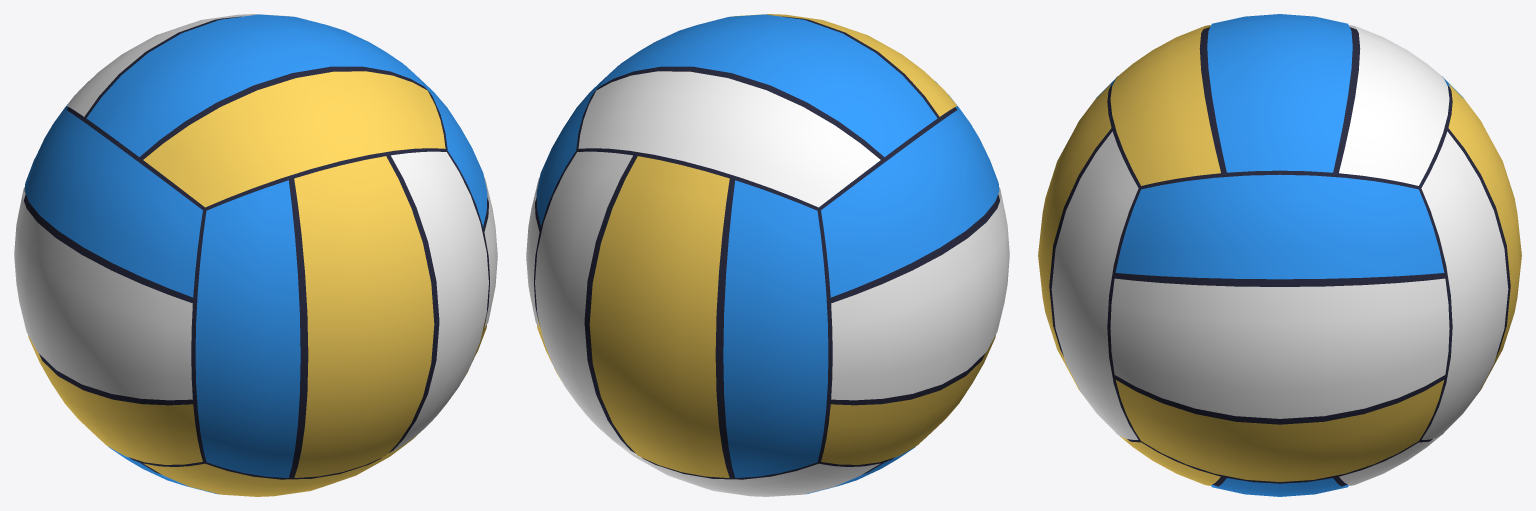
Rendered from match-volleyball.glb.
The picture shows the model from 3 angles, left to right: view 1: azimuth 30°, elevation 25°; view 2: azimuth 150°, elevation 25°; view 3: azimuth 270°, elevation 25°; orthographic projection.
Visible parts, largest first — view 1: Curved panel; view 2: Curved panel; view 3: Curved panel.
Part boxes in pixels (box(x1,y1,x2,y2)): Curved panel: box(14, 14, 497, 496); Curved panel: box(526, 14, 1009, 496); Curved panel: box(1038, 14, 1521, 496).
Size of the model in its own units: 0.6 by 0.6 by 0.6.
